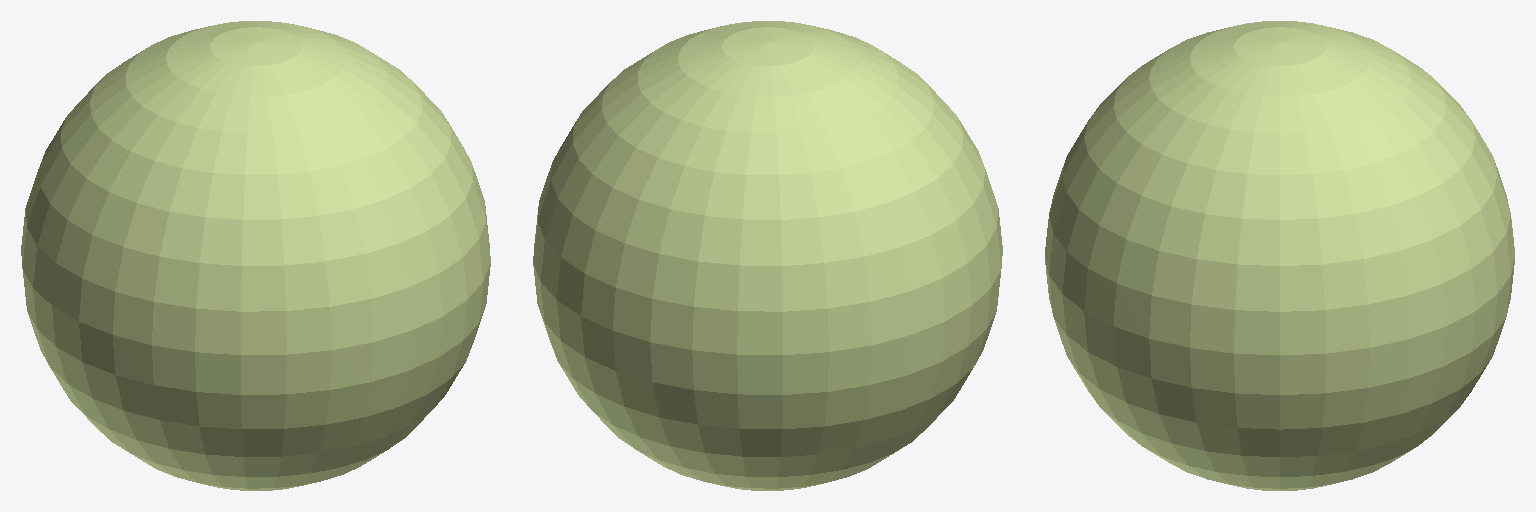
The model's file is ball2.obj.
3 renders of one model, left to right at view 1: azimuth 30°, elevation 25°; view 2: azimuth 150°, elevation 25°; view 3: azimuth 270°, elevation 25°, orthographic.
Visible parts, largest first — view 1: Sphere001; view 2: Sphere001; view 3: Sphere001.
Boxes of the visible parts, box(x1,y1,x2,y2) form: Sphere001: box(21, 21, 490, 490); Sphere001: box(533, 21, 1002, 490); Sphere001: box(1045, 21, 1514, 490).
Size of the model in its own units: 15.17 by 15.17 by 15.17.